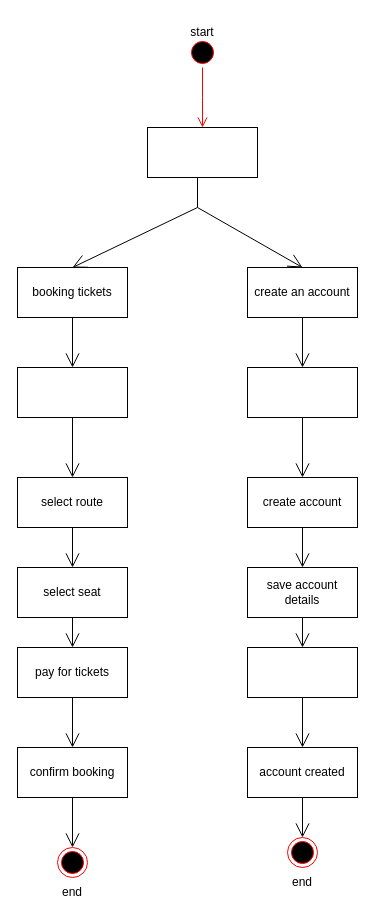
This 375x924 diagram has some shape labels left out. Here are the shapes that lost their labels. From the top down, the centre of each, then its label:
point 202,152: guest user actions
point 72,392: see bus schedule
point 302,392: enter the details
point 302,672: user created
